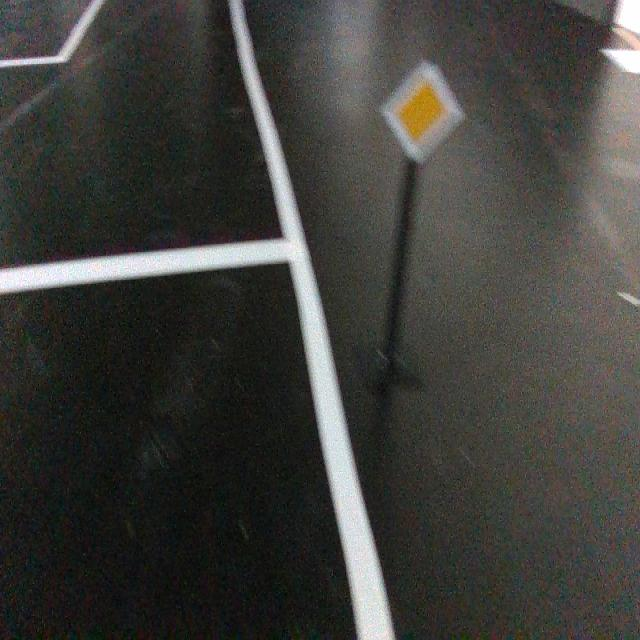priority-sign: (379, 59, 466, 164)
